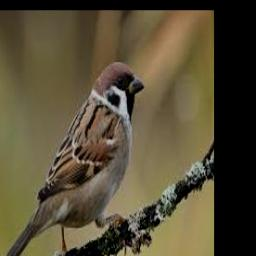Sparrow: (1, 62, 145, 256)
